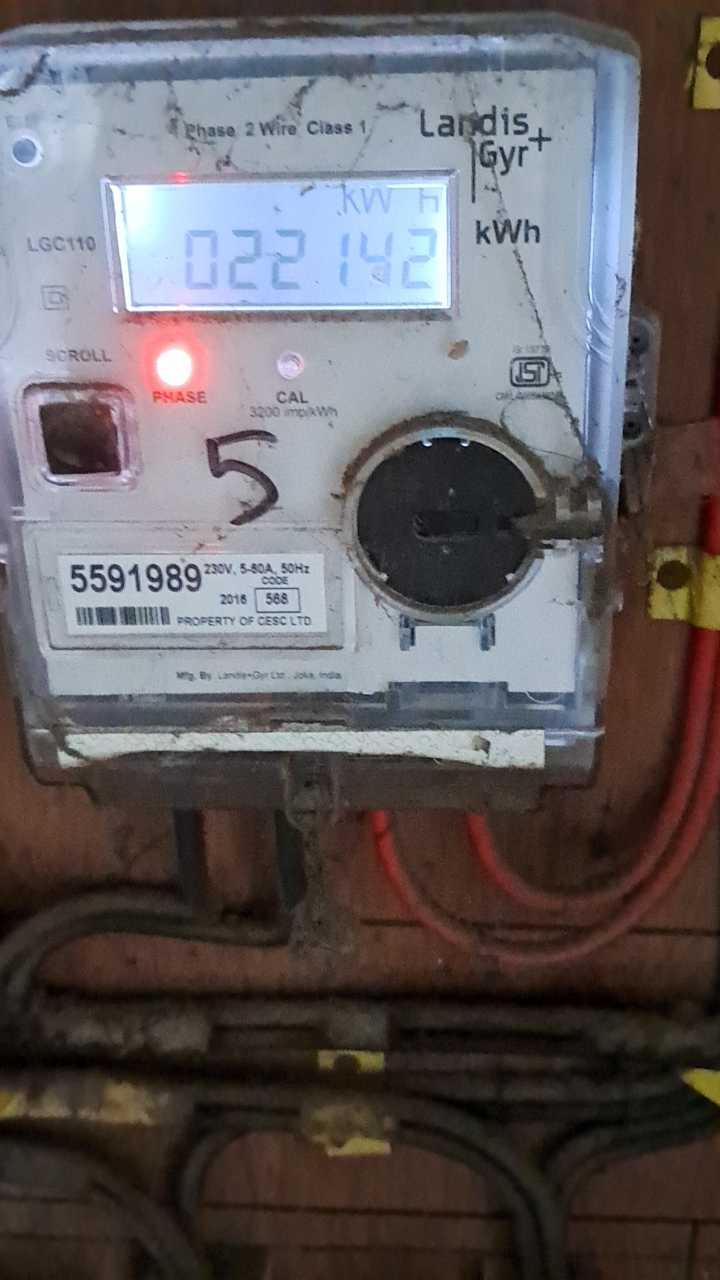meter_readings: (164, 223, 439, 292)
serial_number: (69, 559, 203, 599)
